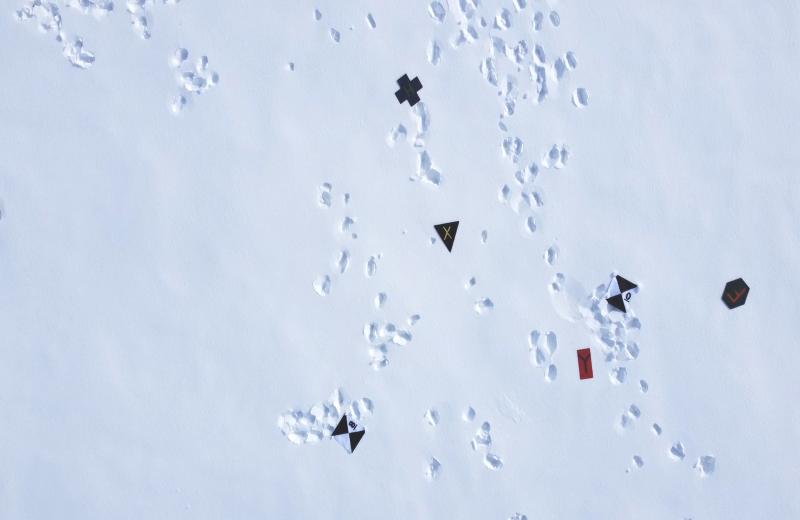Cross: (393, 72, 423, 107)
Hexagon: (720, 276, 749, 310)
Rectangle: (577, 346, 593, 382)
Triangle: (431, 219, 461, 254)
